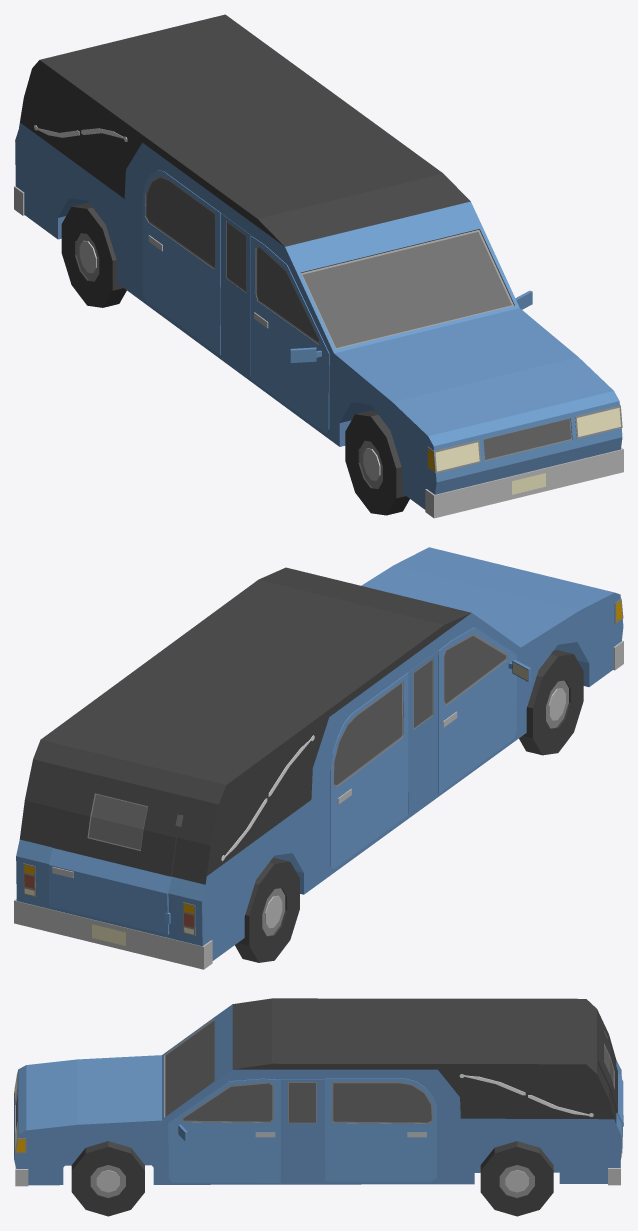
Rendered from catafalque.fbx.
3 views of the same model, one above another, from view 1: azimuth 30°, elevation 25°; view 2: azimuth 150°, elevation 25°; view 3: azimuth 270°, elevation 25° (orthographic). The views are drawn at different scales.
Visible parts, largest first — view 1: fd, Cylinder_2_2, Cylinder_2; view 2: fd, Cylinder_2_2, Cylinder_2; view 3: fd, Cylinder_2_1, Cylinder_2_3.
Boxes of the visible parts, x1=… form: fd: x1=14, y1=14, x2=623, y2=518; Cylinder_2_2: x1=345, y1=410, x2=409, y2=515; Cylinder_2: x1=61, y1=202, x2=126, y2=307; fd: x1=14, y1=547, x2=623, y2=969; Cylinder_2_2: x1=519, y1=650, x2=583, y2=755; Cylinder_2: x1=235, y1=857, x2=299, y2=962; fd: x1=14, y1=998, x2=623, y2=1186; Cylinder_2_1: x1=480, y1=1141, x2=553, y2=1216; Cylinder_2_3: x1=71, y1=1141, x2=144, y2=1216.
Size of the model in its own units: 169 by 141 by 513.
